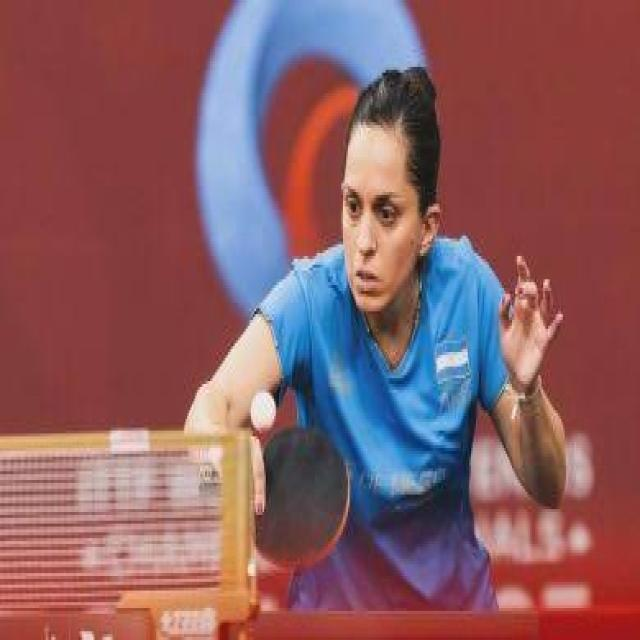TT Net: (0, 423, 256, 636)
TT Racket: (250, 421, 354, 575)
